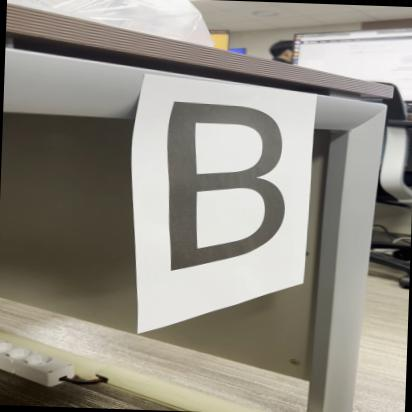seat: (144, 92, 306, 288)
